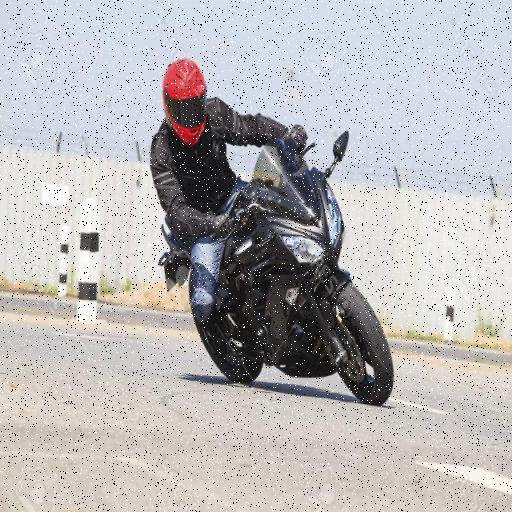Helmet: (155, 46, 213, 150)
Motor: (139, 174, 406, 420)
